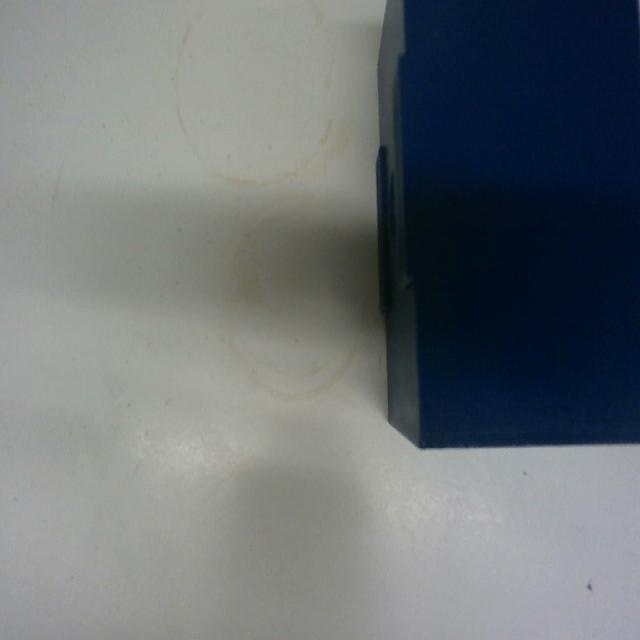Blue Cuboid: (372, 0, 639, 451)
